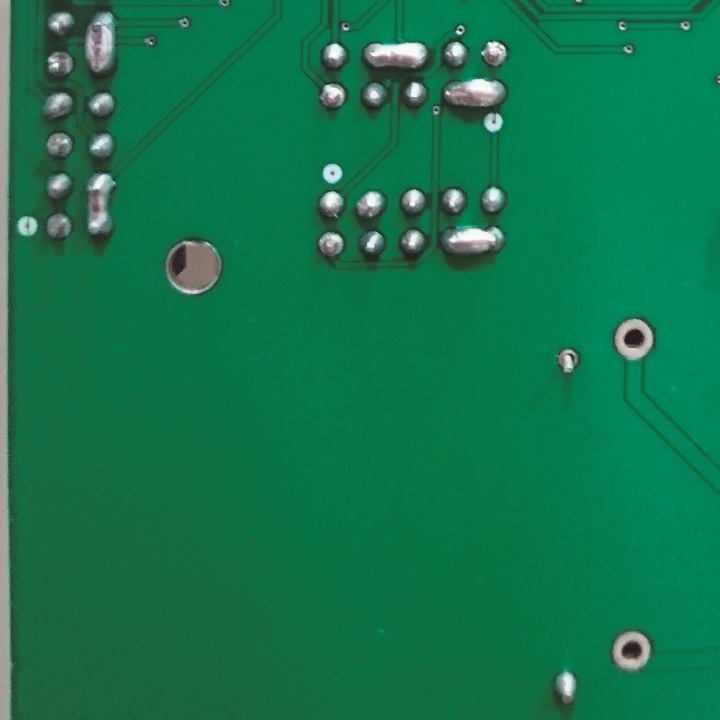F: (610, 315, 658, 362), (604, 628, 656, 671), (43, 48, 77, 80), (41, 211, 76, 240), (316, 79, 347, 111), (480, 39, 510, 71), (43, 131, 74, 160), (555, 345, 581, 378), (319, 230, 345, 258)
P: (83, 9, 122, 80), (360, 38, 430, 74), (84, 172, 119, 242), (441, 78, 507, 111), (439, 225, 504, 258)
